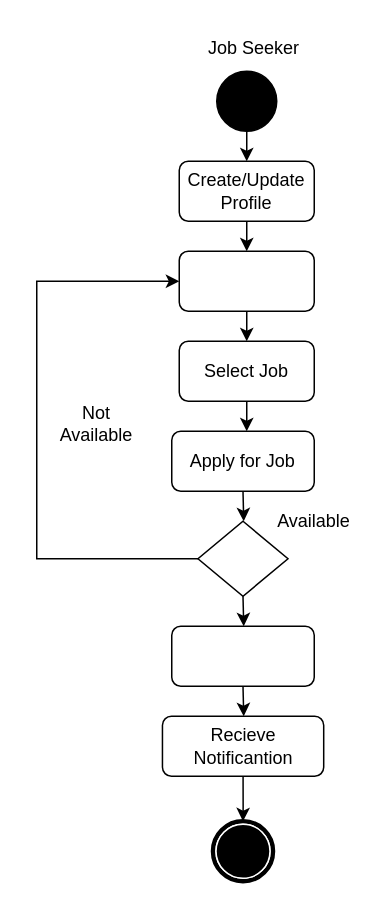
The diagram is 378 pixels wide and 908 high, and some of its shapes have lost their labels. Each missing label, with the box of its shape:
Search for jobs: (178, 250, 314, 311)
Track Application Status: (170, 625, 314, 686)
